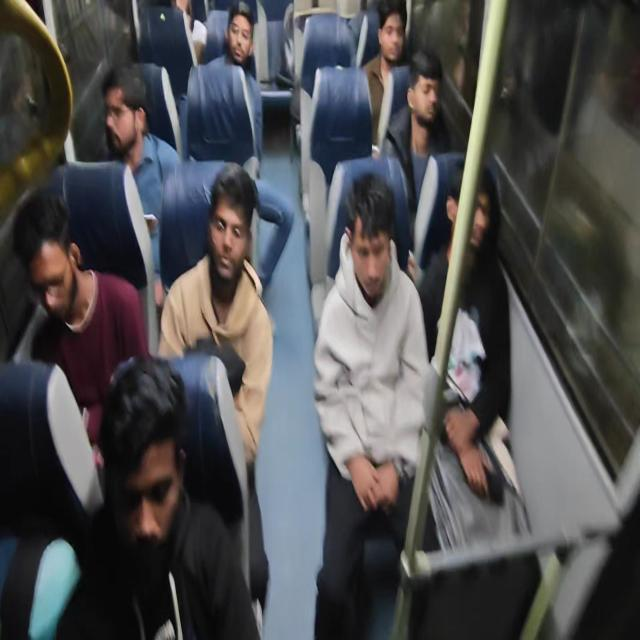person: (53, 353, 261, 639), (312, 171, 430, 637), (157, 163, 274, 624), (411, 162, 515, 552), (12, 186, 150, 450), (100, 63, 182, 288), (380, 46, 452, 212), (206, 2, 264, 164), (361, 0, 412, 149), (207, 2, 257, 80), (170, 0, 207, 66)
